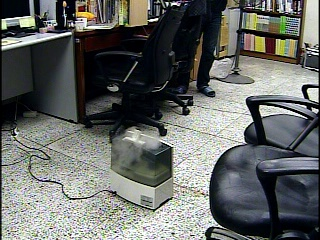smoke: (109, 122, 162, 171)
